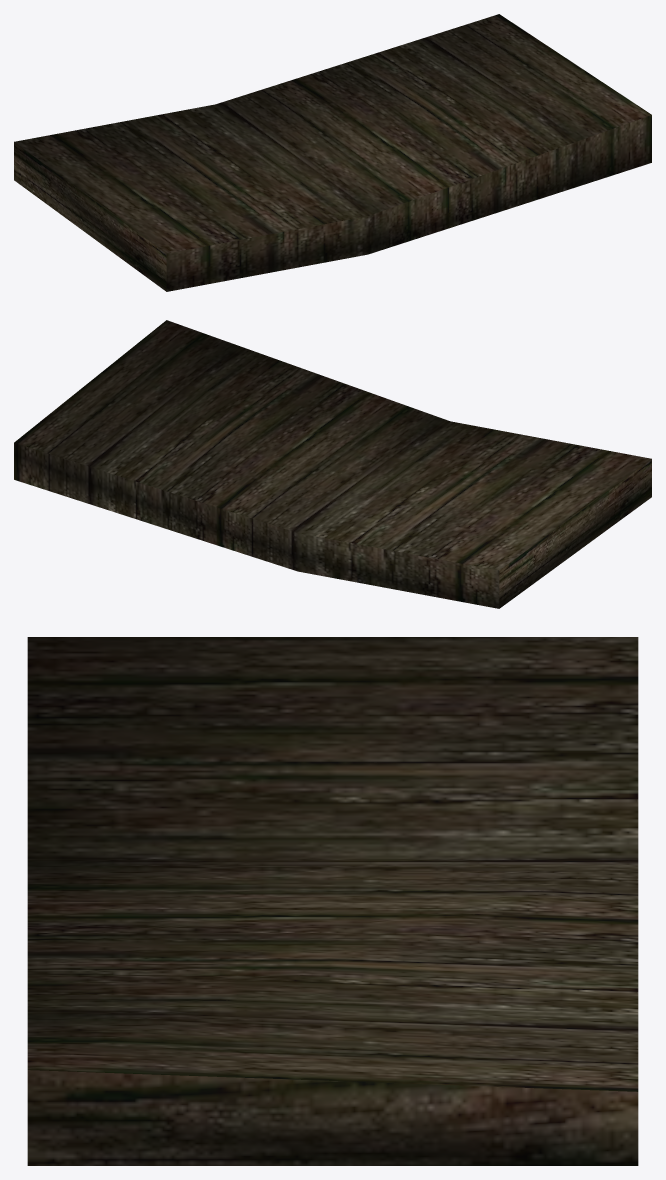
File: OW_O_BIGBRIDGEMIDDLE.glb
The picture shows the model from 3 angles, top to bottom: view 1: azimuth 30°, elevation 25°; view 2: azimuth 150°, elevation 25°; view 3: azimuth 270°, elevation 25°; orthographic projection. The views are drawn at different scales.
Parts seen in each view (by area): view 1: Mesh; view 2: Mesh; view 3: Mesh.
Boxes of the visible parts, x1,y1,x2,y2 form: Mesh: (14,14,651,291); Mesh: (14,320,651,608); Mesh: (27,637,638,1165).
Size of the model in its own units: 8.4 by 1.17 by 4.58.
Materials: 1 (1 with a texture image).
